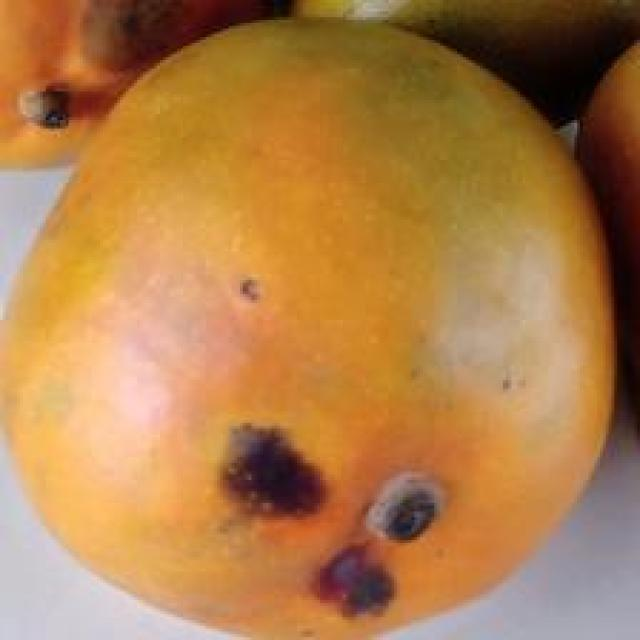Mango: (0, 18, 640, 622), (0, 0, 287, 178), (288, 0, 640, 133), (572, 36, 638, 397)
